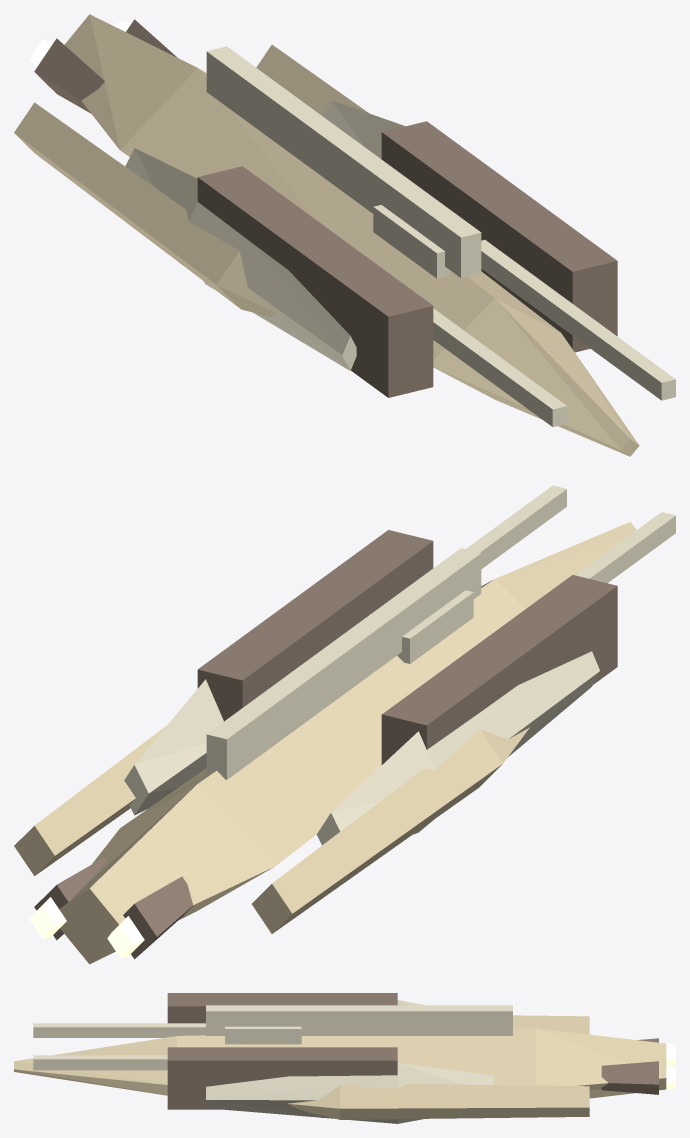
3 renders of one model, top to bottom at view 1: azimuth 30°, elevation 25°; view 2: azimuth 150°, elevation 25°; view 3: azimuth 270°, elevation 25°, orthographic. The views are drawn at different scales.
Size of the model in its own units: 2.27 by 1.21 by 7.52.
